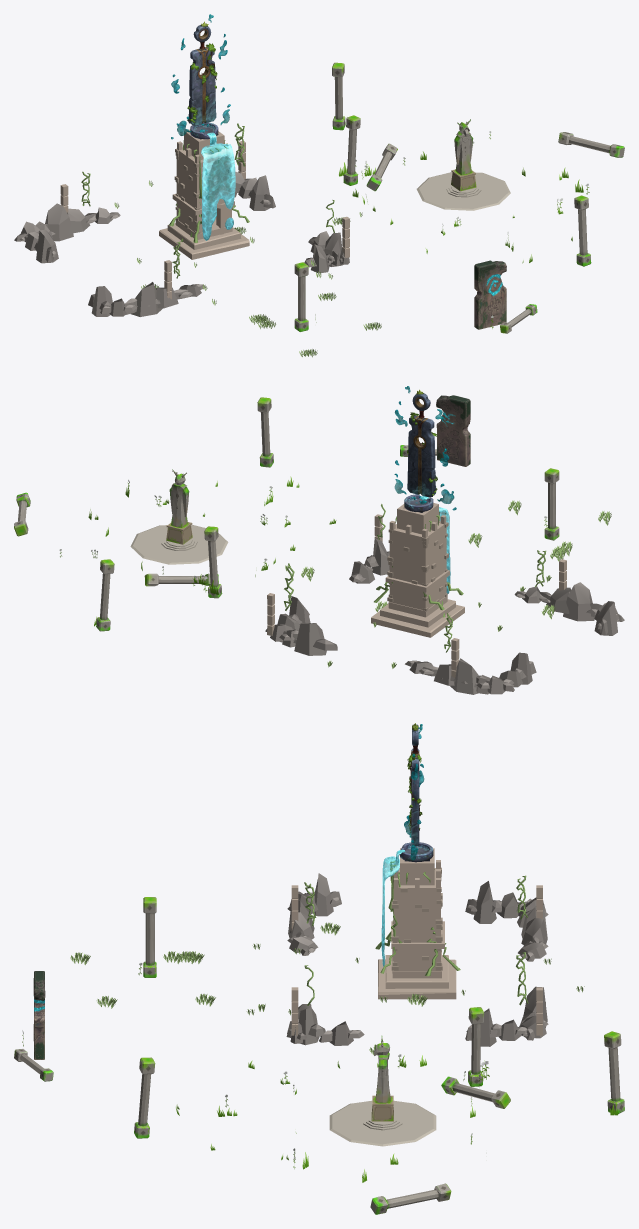
The model's file is planeGround28.glb.
3 views of the same model, one above another, from view 1: azimuth 30°, elevation 25°; view 2: azimuth 150°, elevation 25°; view 3: azimuth 270°, elevation 25° (orthographic). The views are drawn at different scales.
Visible parts, largest first — view 1: Object_9, Object_3, BigFall_Low, Circularbase, Stone_Low, Sword_Low, StatueDeity2, Object_11, Object_4, Magic_Low2; view 2: Object_3, Object_9, Circularbase, Stone_Low, Sword_Low, StatueDeity2, Object_11, Object_4, Magic_Low2, Object_2; view 3: Object_3, Object_9, Circularbase, Object_11, StatueDeity2, Object_4, Stone_Low, Sword_Low, Object_2.
Part boxes in pixels (box(x1,y1,x2,y2)): Object_9: box(14, 171, 349, 316); Object_3: box(60, 129, 349, 299); BigFall_Low: box(201, 143, 235, 240); Circularbase: box(416, 172, 510, 210); Stone_Low: box(474, 260, 506, 329); Sword_Low: box(188, 47, 216, 125); StatueDeity2: box(451, 119, 476, 191); Object_11: box(81, 123, 334, 278); Object_4: box(114, 180, 350, 357); Magic_Low2: box(171, 14, 230, 139); Object_3: box(267, 503, 566, 677); Object_9: box(265, 538, 624, 694); Circularbase: box(130, 524, 228, 564); Stone_Low: box(436, 395, 470, 466); Sword_Low: box(407, 415, 435, 497); StatueDeity2: box(166, 469, 192, 544); Object_11: box(284, 504, 546, 652); Object_4: box(301, 511, 611, 668); Magic_Low2: box(394, 386, 456, 510); Object_2: box(387, 522, 448, 611); Object_3: box(291, 848, 542, 1035); Object_9: box(286, 873, 548, 1046); Circularbase: box(329, 1100, 436, 1146); Object_11: box(304, 861, 528, 1005); StatueDeity2: box(371, 1035, 393, 1121); Object_4: box(70, 922, 584, 1055); Stone_Low: box(33, 971, 45, 1059); Sword_Low: box(411, 748, 419, 846); Object_2: box(391, 867, 442, 970).
Size of the model in its own units: 4.76 by 1.9 by 3.85.
13 materials, 7 textured.
